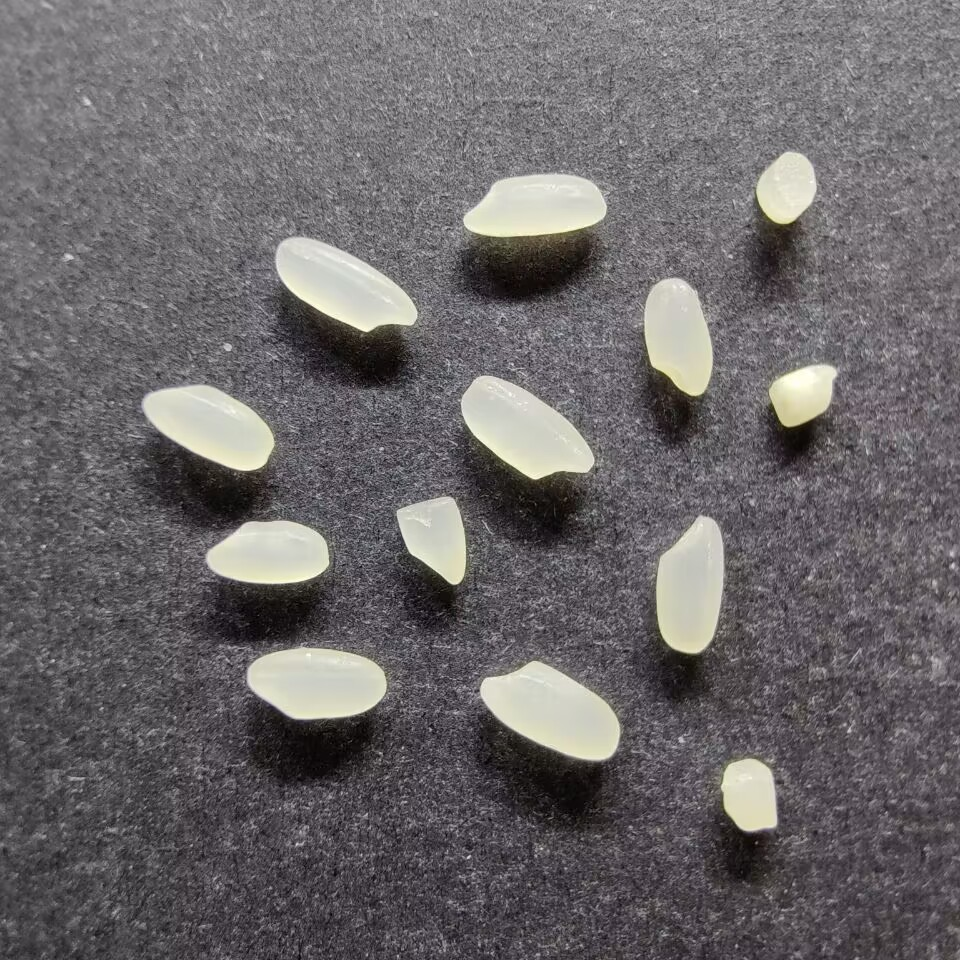broken: (394, 494, 468, 587), (753, 149, 818, 226), (769, 361, 841, 430), (719, 756, 780, 834)
rice: (477, 658, 622, 763), (458, 373, 597, 482), (273, 235, 419, 335), (139, 383, 277, 474), (244, 645, 388, 723), (653, 510, 727, 655), (461, 172, 608, 238), (641, 275, 715, 398), (202, 518, 330, 584)
